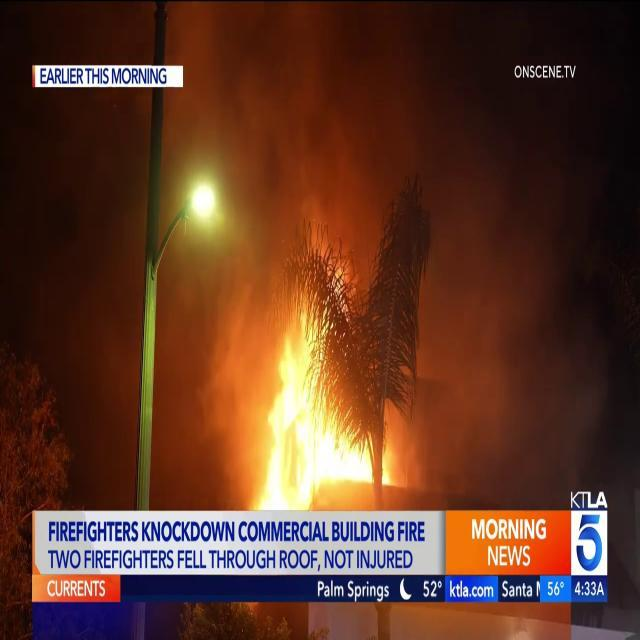Smoke: (374, 107, 605, 462)
